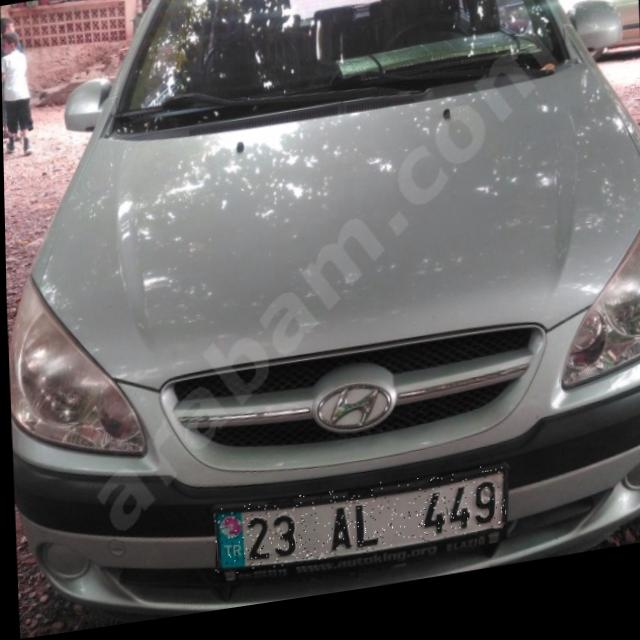license_plate: (210, 476, 504, 583)
